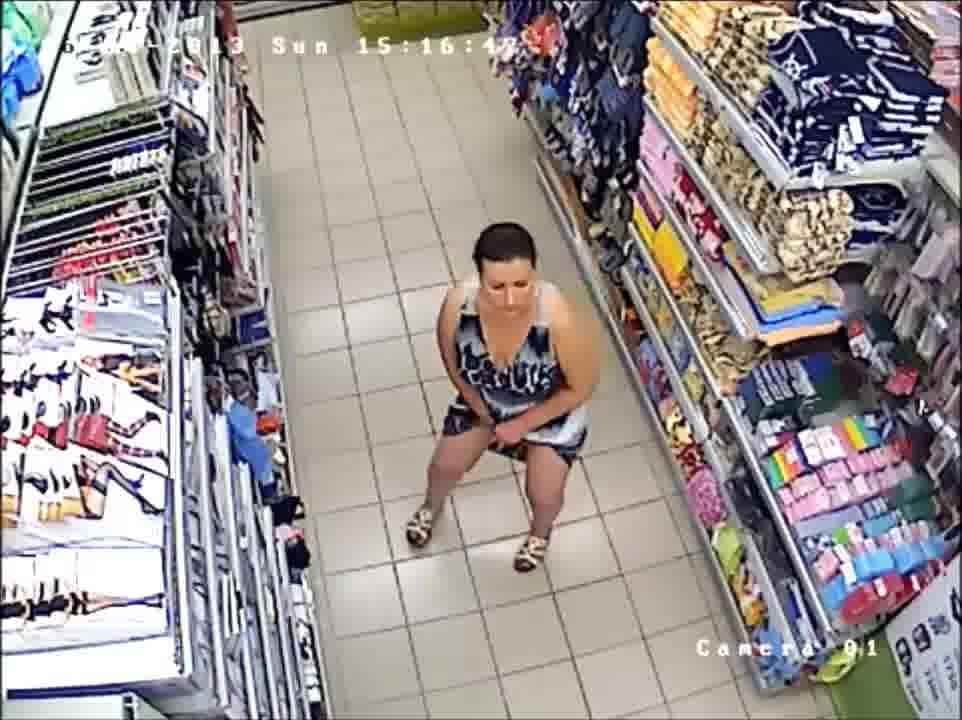shoplifting: (412, 215, 622, 575)
